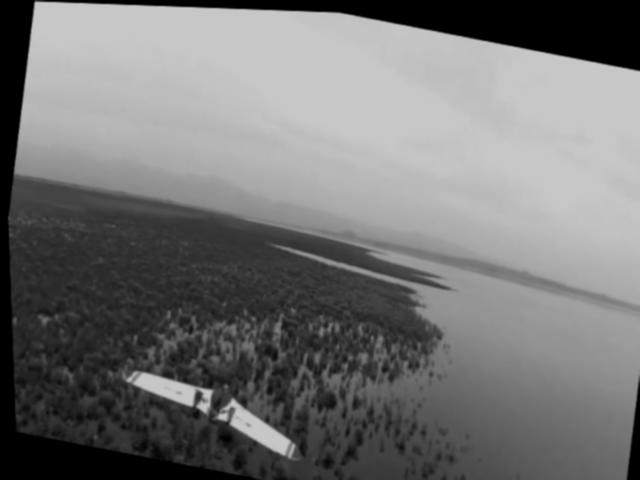hedef: (107, 343, 321, 480)
